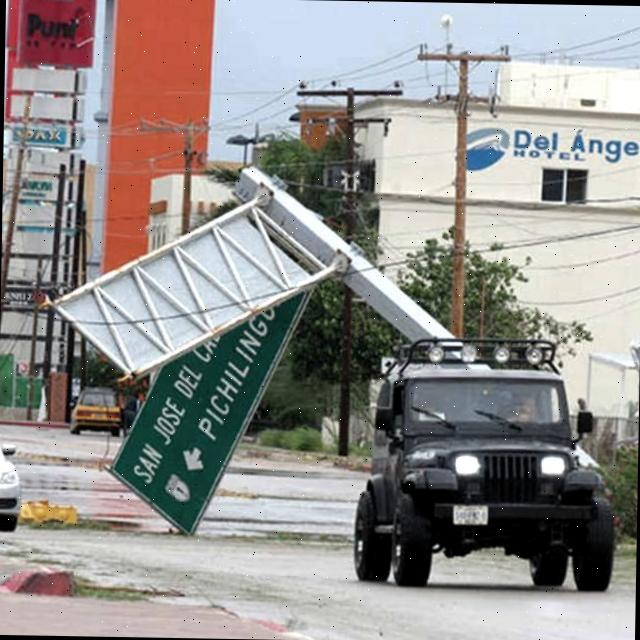Broken Pole: (29, 154, 489, 539)
